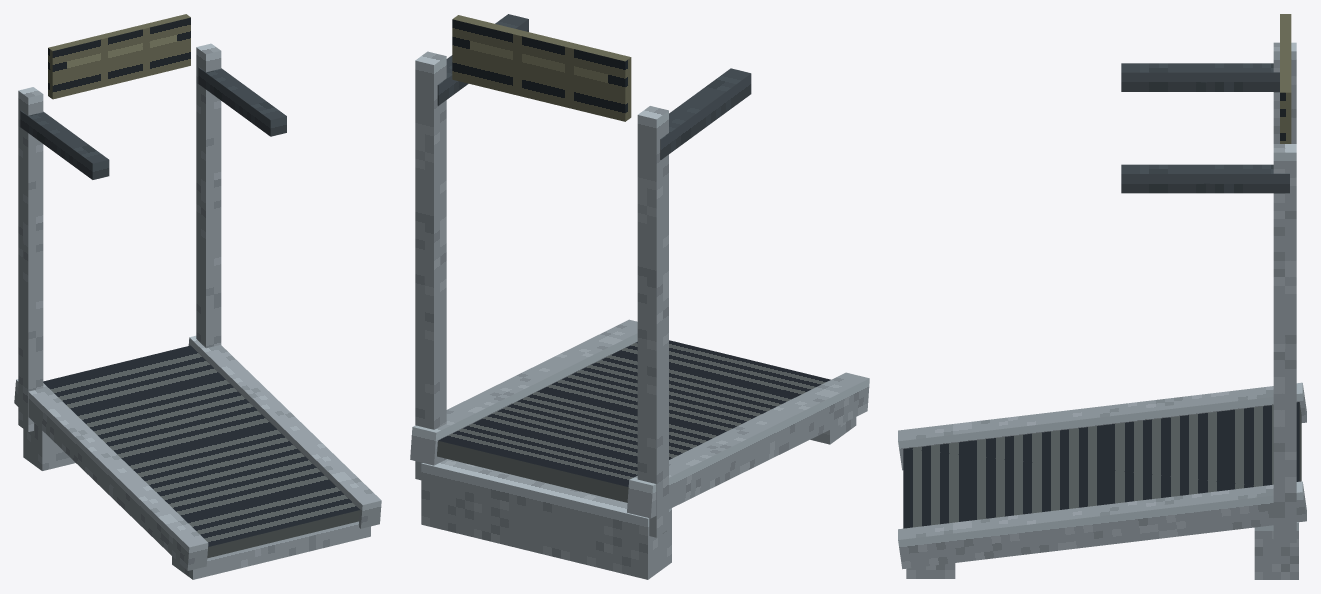
The model's file is f_treadmill_mechanical.glb.
3 views of the same model, side by side, from view 1: azimuth 30°, elevation 25°; view 2: azimuth 150°, elevation 25°; view 3: azimuth 270°, elevation 25° (orthographic). The views are drawn at different scales.
Visible parts, largest first — view 1: block_running-belt, block_inclined-side-rail (×2), block_runner-upright--0.27, block_training-console, block_runner-upright-0.27, block_rear-deck-support, block_handgrip--0.27, block_handgrip-0.27, block_front-deck-support; view 2: block_running-belt, block_inclined-side-rail (×2), block_front-deck-support, block_runner-upright--0.27, block_training-console, block_runner-upright-0.27, block_handgrip--0.27, block_handgrip-0.27; view 3: block_running-belt, block_inclined-side-rail (×2), block_runner-upright-0.27, block_handgrip-0.27, block_handgrip--0.27, block_front-deck-support, block_training-console, block_runner-upright--0.27, block_rear-deck-support.
Boxes of the visible parts, bbox=[...] form: block_running-belt: bbox=[43, 345, 360, 558]; block_inclined-side-rail (×2): bbox=[14, 335, 381, 570]; block_runner-upright--0.27: bbox=[18, 87, 43, 431]; block_training-console: bbox=[48, 14, 190, 99]; block_runner-upright-0.27: bbox=[196, 43, 221, 348]; block_rear-deck-support: bbox=[172, 521, 370, 579]; block_handgrip--0.27: bbox=[20, 110, 109, 179]; block_handgrip-0.27: bbox=[198, 67, 286, 136]; block_front-deck-support: bbox=[23, 422, 75, 470]; block_running-belt: bbox=[437, 340, 830, 502]; block_inclined-side-rail (×2): bbox=[410, 319, 869, 518]; block_front-deck-support: bbox=[421, 459, 671, 579]; block_runner-upright--0.27: bbox=[637, 106, 668, 537]; block_training-console: bbox=[452, 15, 631, 121]; block_runner-upright-0.27: bbox=[415, 51, 446, 480]; block_handgrip--0.27: bbox=[660, 68, 751, 159]; block_handgrip-0.27: bbox=[437, 14, 528, 105]; block_running-belt: bbox=[903, 402, 1301, 528]; block_inclined-side-rail (×2): bbox=[898, 382, 1306, 569]; block_runner-upright-0.27: bbox=[1273, 144, 1296, 542]; block_handgrip-0.27: bbox=[1121, 164, 1289, 193]; block_handgrip--0.27: bbox=[1121, 63, 1279, 91]; block_front-deck-support: bbox=[1254, 522, 1298, 579]; block_training-console: bbox=[1280, 14, 1291, 143]; block_runner-upright--0.27: bbox=[1273, 42, 1296, 143]; block_rear-deck-support: bbox=[906, 563, 955, 578].
Bounding box in the file's own units: 0.59 × 1.18 × 0.9207.
1 material, 1 textured.
